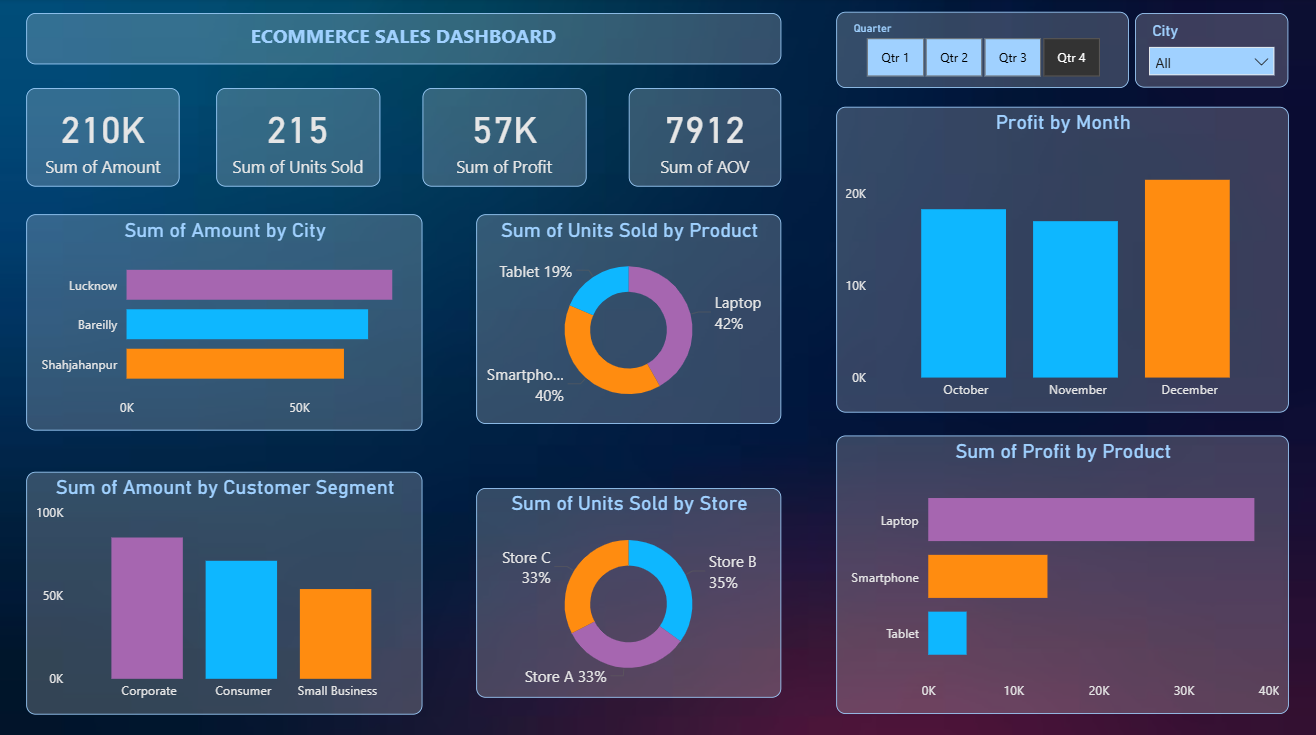

The dashboard page shown, as its layout file describes it:
{"tool":"powerbi","page":{"name":"Page 1","canvas":[1280,720],"ordinal":0},"visuals":[{"type":"columnChart","title":" Profit by Month","fields":{"Category":["Order.Date.Variation.Date Hierarchy.Month"],"Y":["Sum(Details.Profit ($))"]},"box":[811.9,105,436.7,295.6],"z":0},{"type":"barChart","fields":{"Y":["Sum(Details.Profit ($))"],"Category":["Details.Product"]},"box":[811.9,422.3,436.7,269],"z":1000},{"type":"donutChart","fields":{"Y":["Sum(Details.Units Sold)"],"Category":["Details.Product"]},"box":[464.5,208.7,294.4,202.7],"z":2000},{"type":"donutChart","fields":{"Y":["Sum(Details.Units Sold)"],"Category":["Details.Store"]},"box":[464.5,472.9,294.4,202.7],"z":3000},{"type":"card","fields":{"Values":["Sum(Details.Amount ($))"]},"box":[30.2,86.9,148.4,95.3],"z":4000},{"type":"card","fields":{"Values":["Sum(Details.Units Sold)"]},"box":[213.5,86.9,158,95.3],"z":5000},{"type":"card","fields":{"Values":["Sum(Details.Profit ($))"]},"box":[412.6,86.9,158,95.3],"z":6000},{"type":"card","fields":{"Values":["Sum(Details.AOV)"]},"box":[611.7,86.9,147.2,95.3],"z":7000},{"type":"barChart","fields":{"Y":["Sum(Details.Amount ($))"],"Category":["Order.City"]},"box":[30.2,208.7,382.4,208.7],"z":8000},{"type":"columnChart","fields":{"Y":["Sum(Details.Amount ($))"],"Category":["Details.Customer Segment"]},"box":[30.2,457.2,382.4,234],"z":9000},{"type":"slicer","fields":{"Values":["Order.Date.Variation.Date Hierarchy.Quarter"]},"box":[811.9,13.3,282.3,73.6],"z":10000},{"type":"slicer","fields":{"Values":["Order.City"]},"box":[1100.3,14.5,148.4,72.4],"z":11000},{"type":"textbox","box":[30.2,14.5,728.7,49.5],"z":12000}]}

Visuals, with their boxes in screenshot pixels (x1, y1, x2, y2), scaled from the page's 1280x720 canvas onto the 1316x735 screenshot:
" Profit by Month" columnChart: (835,107,1284,409)
barChart - Sum(Details.Profit ($)) x Details.Product: (835,431,1284,706)
donutChart - Sum(Details.Units Sold) x Details.Product: (478,213,780,420)
donutChart - Sum(Details.Units Sold) x Details.Store: (478,483,780,690)
card - Sum(Details.Amount ($)): (31,89,184,186)
card - Sum(Details.Units Sold): (220,89,382,186)
card - Sum(Details.Profit ($)): (424,89,587,186)
card - Sum(Details.AOV): (629,89,780,186)
barChart - Sum(Details.Amount ($)) x Order.City: (31,213,424,426)
columnChart - Sum(Details.Amount ($)) x Details.Customer Segment: (31,467,424,706)
slicer - Order.Date.Variation.Date Hierarchy.Quarter: (835,14,1125,89)
slicer - Order.City: (1131,15,1284,89)
textbox: (31,15,780,65)
